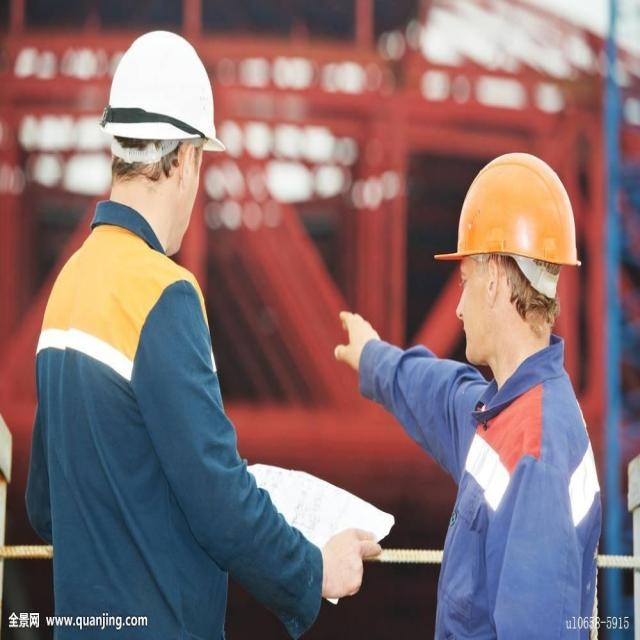Con_Casco: (96, 23, 218, 245), (454, 149, 570, 365)
Sin_Chaleco: (41, 245, 232, 635)
